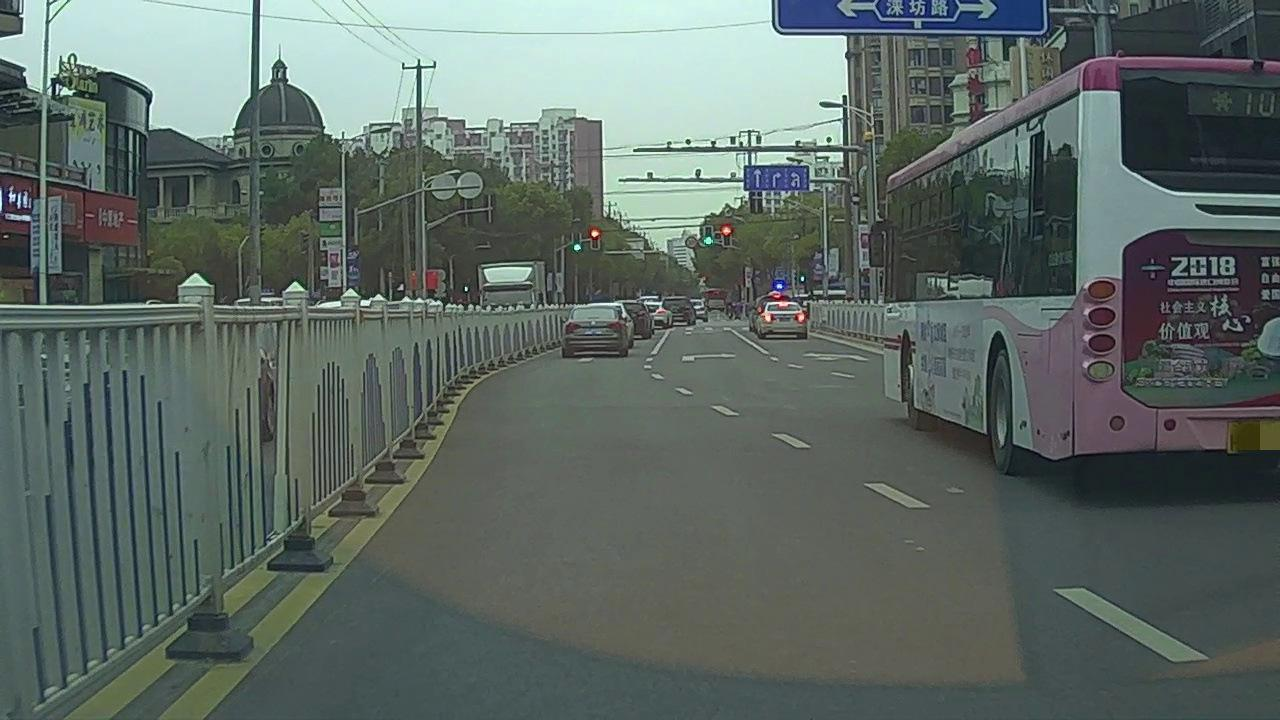traffic_light: (723, 228, 731, 246), (574, 232, 581, 251), (592, 229, 599, 248), (706, 227, 713, 246)
